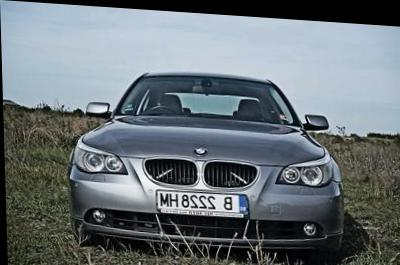License_Plate: (156, 187, 248, 215)
